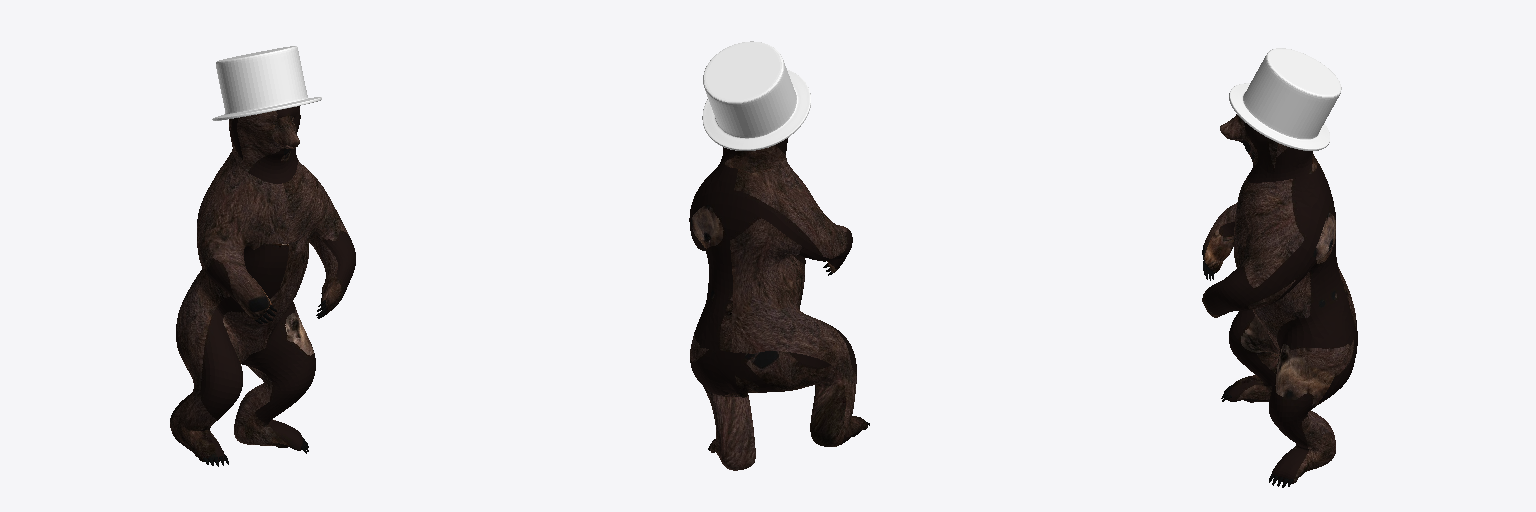
3 views of the same model, side by side, from view 1: azimuth 30°, elevation 25°; view 2: azimuth 150°, elevation 25°; view 3: azimuth 270°, elevation 25° (orthographic).
Visible parts, largest first — view 1: bear, cap; view 2: bear, cap; view 3: bear, cap.
Part boxes in pixels (x1,y1,x2,y2): bear: (170, 106, 355, 461); cap: (212, 46, 321, 120); bear: (689, 138, 867, 470); cap: (702, 41, 810, 150); bear: (1202, 114, 1357, 483); cap: (1229, 48, 1341, 150).
Bounding box in the file's own units: 2.43 × 5.98 × 2.04.
Materials: 3 (1 with a texture image).